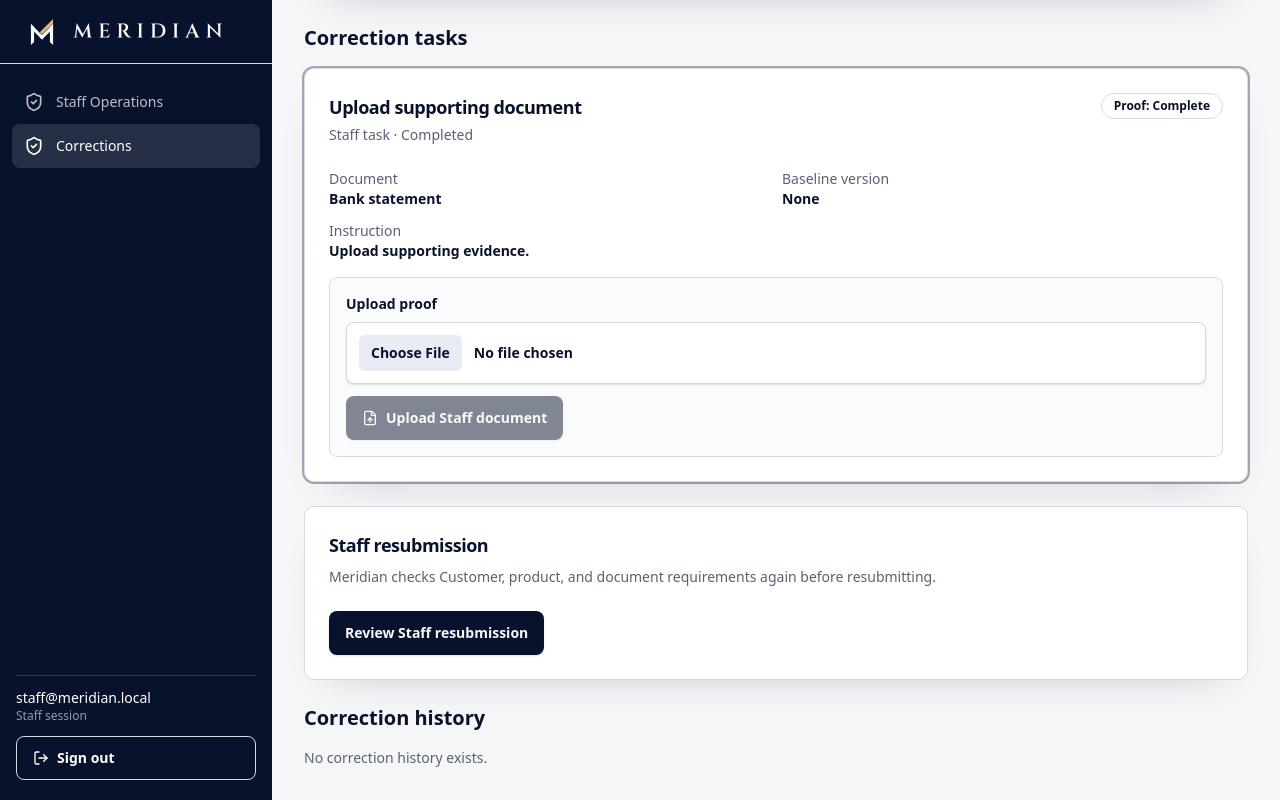
Test: Staff correction operation recovery › preserves confirmed Staff resubmission and reconciles its request
(page scrolled)
Click the button "Review Staff resubmission" at (437, 633), box [329,611,544,655]
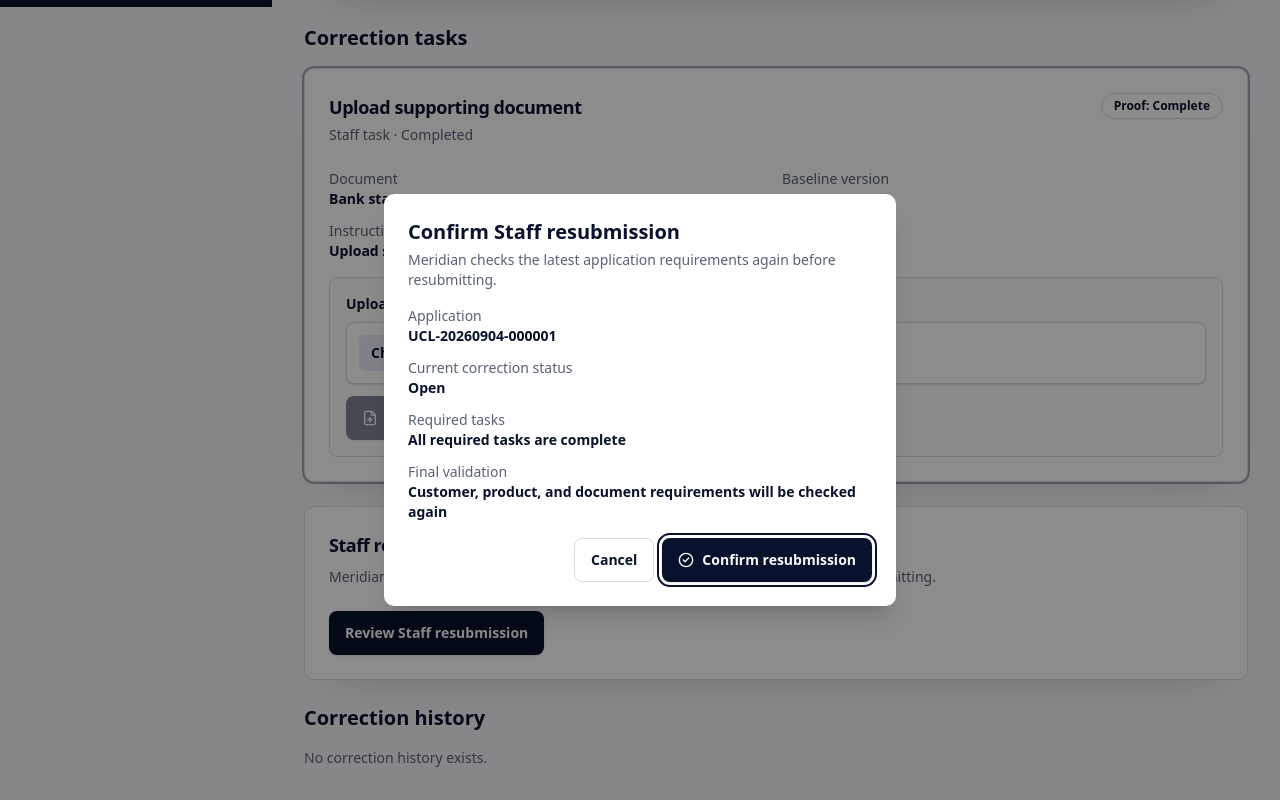
Expected: the dialog "Confirm Staff resubmission" is shown, [384,194,896,606]
Click the button "Confirm resubmission" at (767, 560), box [662,538,872,582]
(page scrolled)
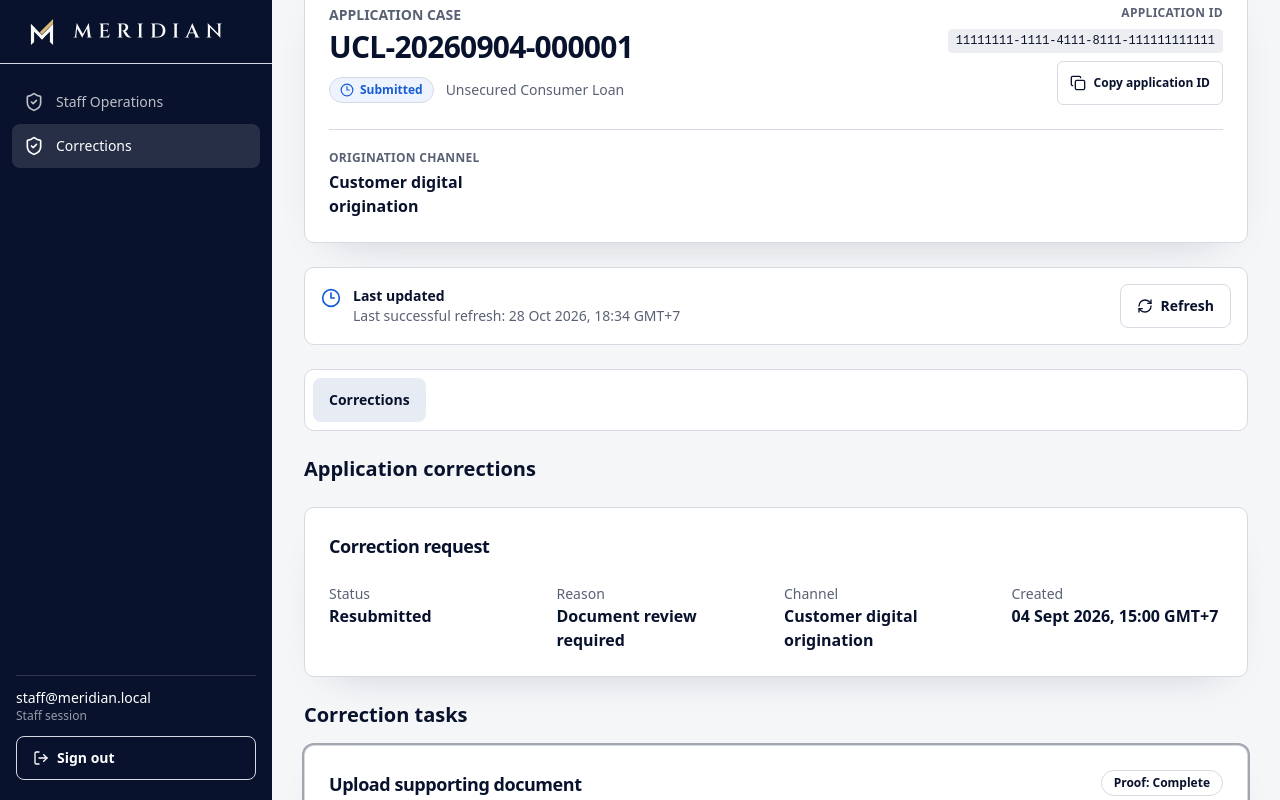
Expected: the link "Corrections" below "Last successful refresh:" is shown, [313,378,426,422]
Expected: the button "Review Staff resubmission" is gone
